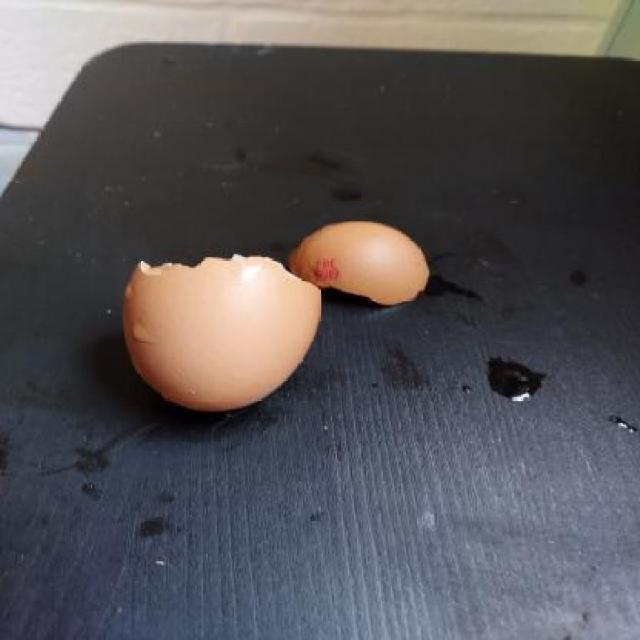biodegradable: (123, 253, 324, 414), (288, 224, 436, 308)
